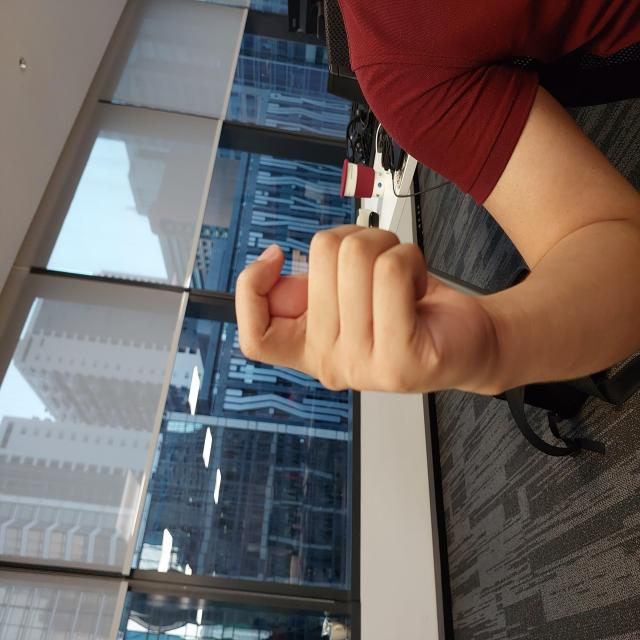T: (244, 233, 422, 492)
